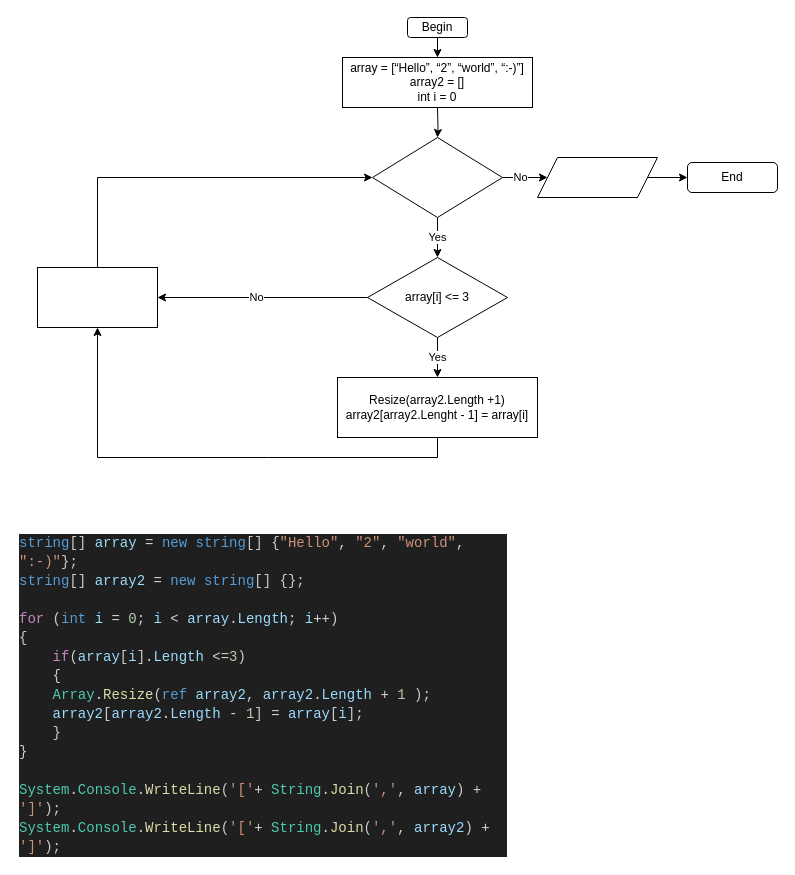
This 795x875 diagram has some shape labels left out. The centre of each missing label's shape, as x and y in pixels:
"i < array.Length" belongs at pixel 437 177.
"i = i+1" belongs at pixel 97 297.
"print(array) print(array2)" belongs at pixel 597 177.
